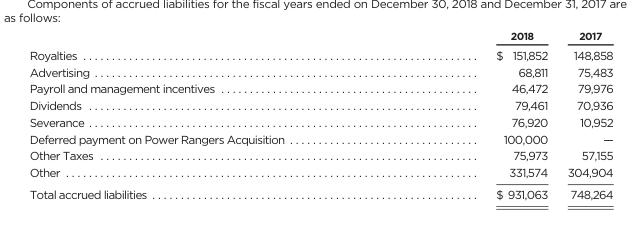table: (28, 29, 612, 201)
table column: (28, 29, 389, 201), (389, 29, 557, 201), (557, 29, 612, 201)
table column header: (28, 29, 612, 44)
table row: (28, 163, 612, 183), (28, 44, 612, 62), (28, 183, 612, 201), (28, 62, 612, 79), (28, 79, 612, 96), (28, 96, 612, 113), (28, 113, 612, 130), (28, 146, 612, 163), (28, 130, 612, 146), (28, 29, 612, 44)
